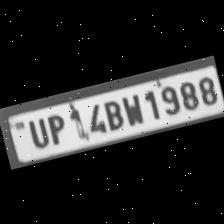1: (64, 106, 88, 142), (138, 86, 162, 122)
4: (80, 98, 108, 136)
8: (193, 72, 220, 109), (176, 77, 200, 113)
9: (156, 82, 182, 119)
B: (98, 94, 125, 132)
P: (42, 110, 70, 146)
U: (22, 115, 50, 151)
W: (118, 90, 146, 128)
